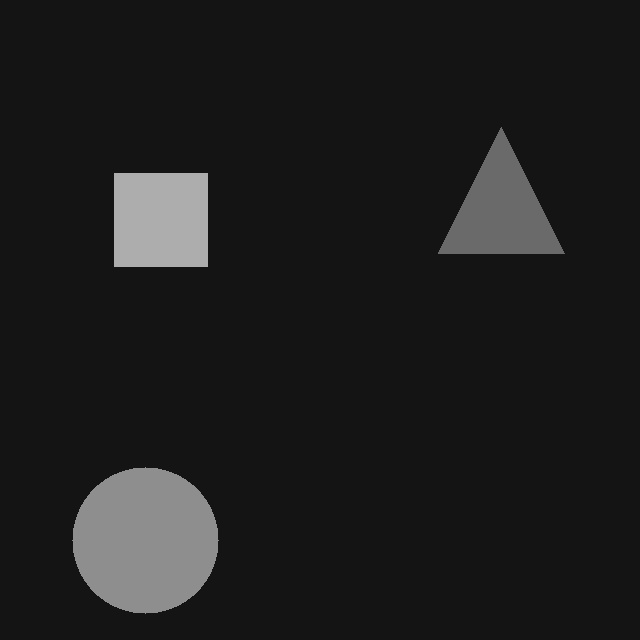circle: (72, 467, 218, 613)
square: (114, 173, 207, 266)
triangle: (438, 127, 564, 253)
